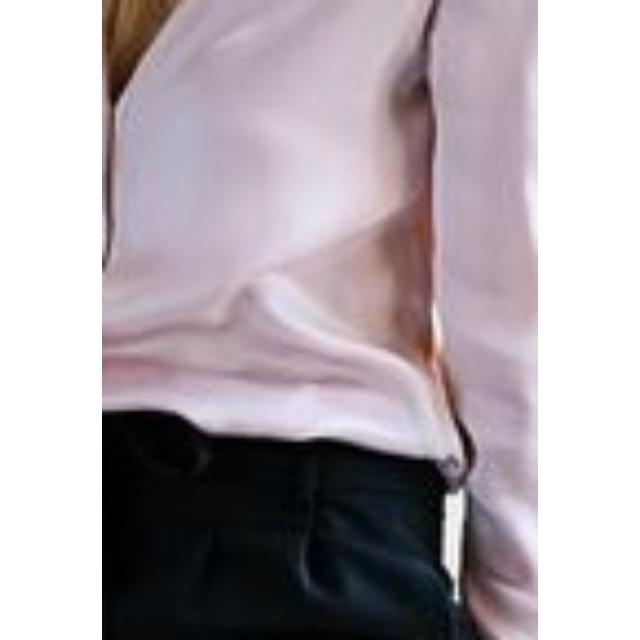silk: (102, 0, 538, 450)
